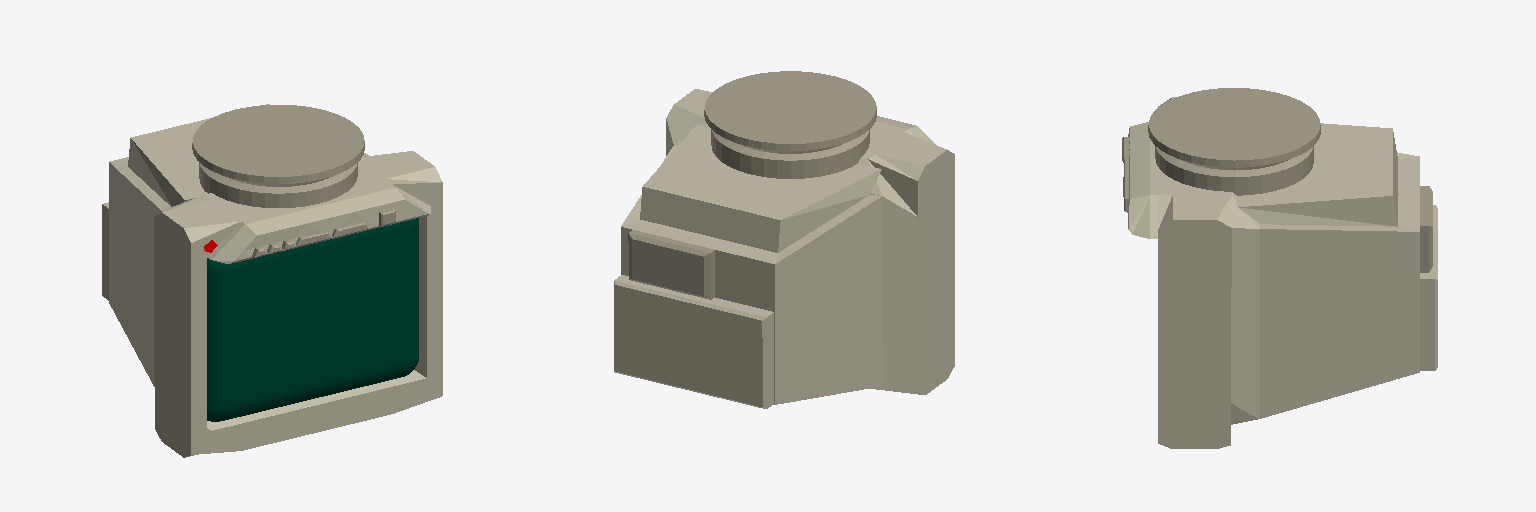
The model's file is comp.obj.
The picture shows the model from 3 angles: view 1: azimuth 30°, elevation 25°; view 2: azimuth 150°, elevation 25°; view 3: azimuth 270°, elevation 25°; orthographic projection.
Parts seen in each view (by area): view 1: Cylinder.1; view 2: Cylinder.1; view 3: Cylinder.1.
Part boxes in pixels (left/top/right/bottom): Cylinder.1: left=102, top=104, right=442, bottom=457; Cylinder.1: left=614, top=71, right=954, bottom=408; Cylinder.1: left=1122, top=88, right=1437, bottom=448.
Bounding box in the file's own units: 306 × 306 × 333.